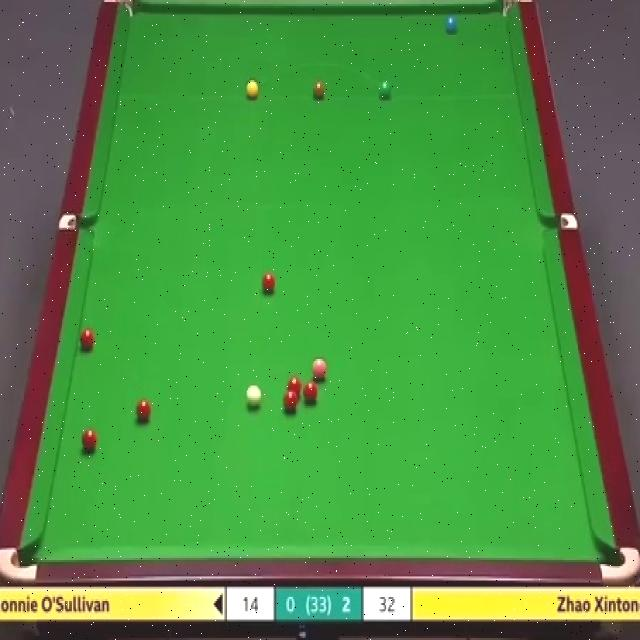blue-ball: (446, 15, 456, 37)
brown-ball: (312, 82, 326, 99)
green-ball: (378, 78, 393, 102)
pink-ball: (311, 356, 328, 381)
red-ball: (77, 327, 96, 352), (302, 380, 318, 405), (135, 398, 150, 424), (80, 429, 97, 450), (288, 376, 302, 400), (260, 272, 276, 292), (284, 390, 298, 411)
white-ball: (245, 386, 262, 408)
yellow-ball: (245, 79, 259, 100)
